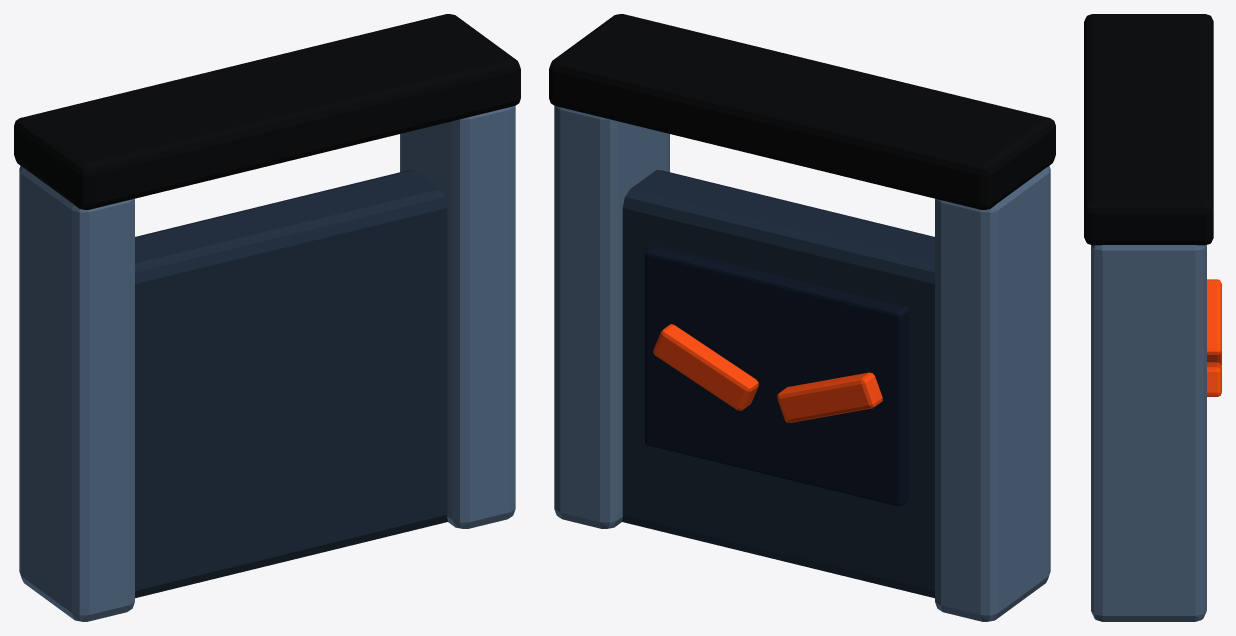
File: arena_wall.obj
3 views of the same model, side by side, from view 1: azimuth 30°, elevation 25°; view 2: azimuth 150°, elevation 25°; view 3: azimuth 270°, elevation 25° (orthographic). The views are drawn at different scales.
Visible parts, largest first — view 1: wall_core_M_gunmetal, wall_cap_M_black, wall_pillar_r_M_steel, wall_pillar_l_M_steel; view 2: wall_core_M_gunmetal, wall_cap_M_black, wall_pillar_r_M_steel, wall_panel_M_navy, wall_pillar_l_M_steel, wall_chevron_l_M_orange, wall_chevron_r_M_orange; view 3: wall_pillar_l_M_steel, wall_cap_M_black, wall_chevron_r_M_orange, wall_chevron_l_M_orange.
Part boxes in pixels (<box>): wall_core_M_gunmetal: <box>135,170,447,598</box>; wall_cap_M_black: <box>14,14,520,209</box>; wall_pillar_r_M_steel: <box>19,166,134,621</box>; wall_pillar_l_M_steel: <box>400,106,515,528</box>; wall_core_M_gunmetal: <box>622,170,934,598</box>; wall_cap_M_black: <box>549,14,1055,209</box>; wall_pillar_r_M_steel: <box>935,166,1050,621</box>; wall_panel_M_navy: <box>645,246,908,506</box>; wall_pillar_l_M_steel: <box>554,106,669,528</box>; wall_chevron_l_M_orange: <box>653,324,758,410</box>; wall_chevron_r_M_orange: <box>777,372,882,422</box>; wall_pillar_l_M_steel: <box>1091,245,1206,621</box>; wall_cap_M_black: <box>1084,14,1213,245</box>; wall_chevron_r_M_orange: <box>1207,279,1221,365</box>; wall_chevron_l_M_orange: <box>1207,362,1221,396</box>.
Bounding box in the file's own units: 1 × 1 × 0.2975.
